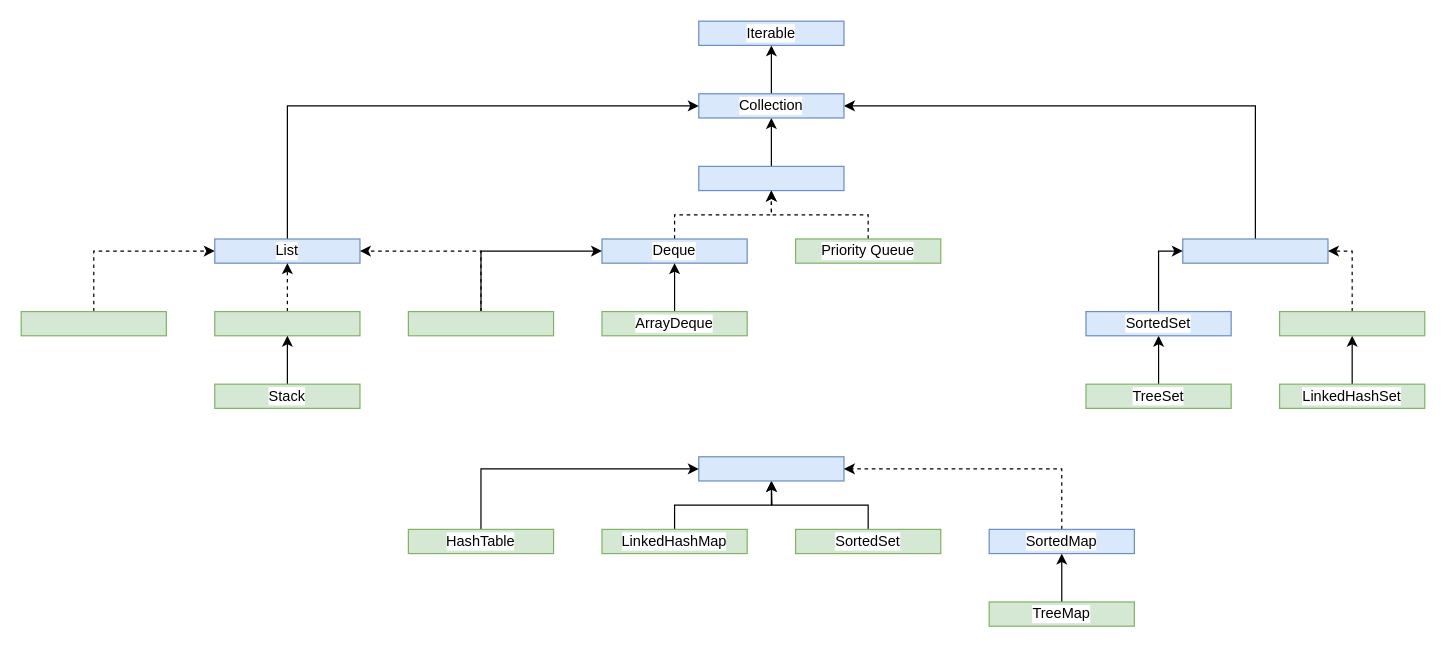
This 1446x647 diagram has some shape labels left out. The shapes that lost their labels are listed below. From the top down, each one's centre as x and y in pixels, then its label:
At (x=771, y=178): "Queue".
At (x=1255, y=250): "Set".
At (x=93, y=323): "ArrayList".
At (x=287, y=323): "Vector".
At (x=480, y=323): "LinkedList".
At (x=1351, y=323): "HashSet".
At (x=771, y=468): "Map".
